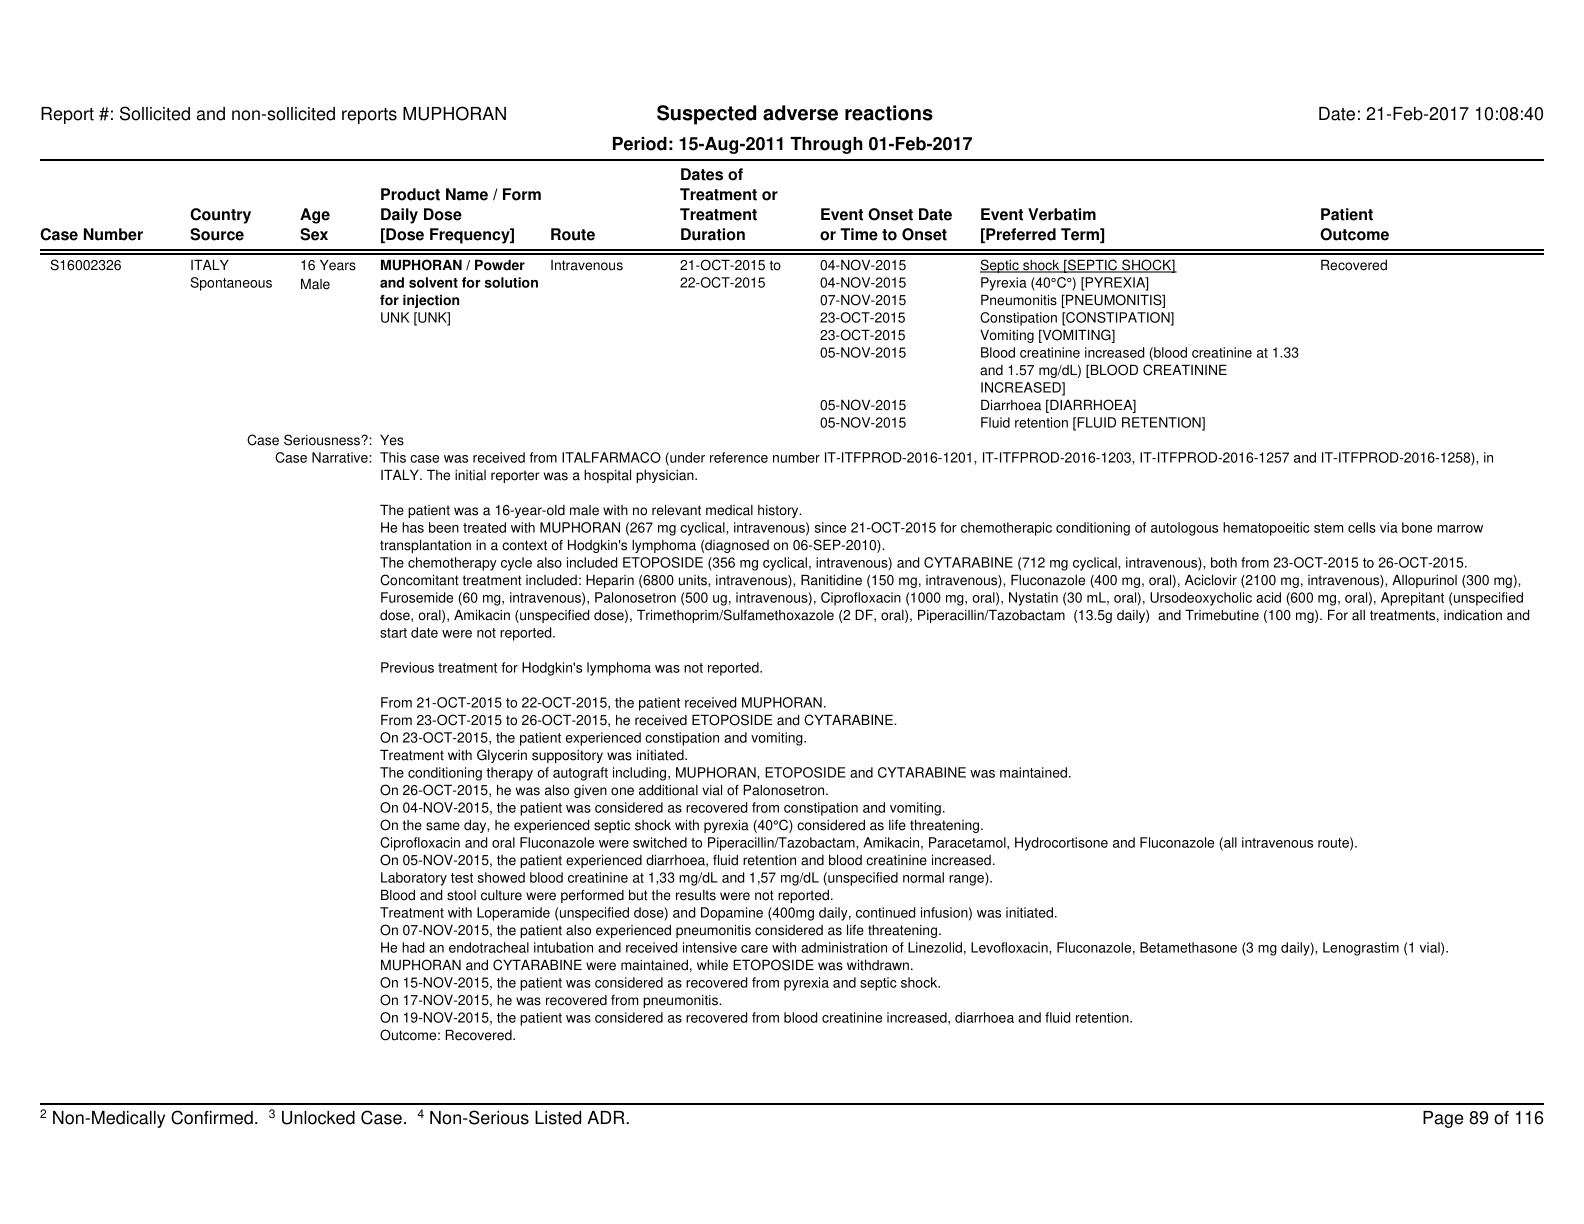partial_lined: (36, 156, 1548, 435)
